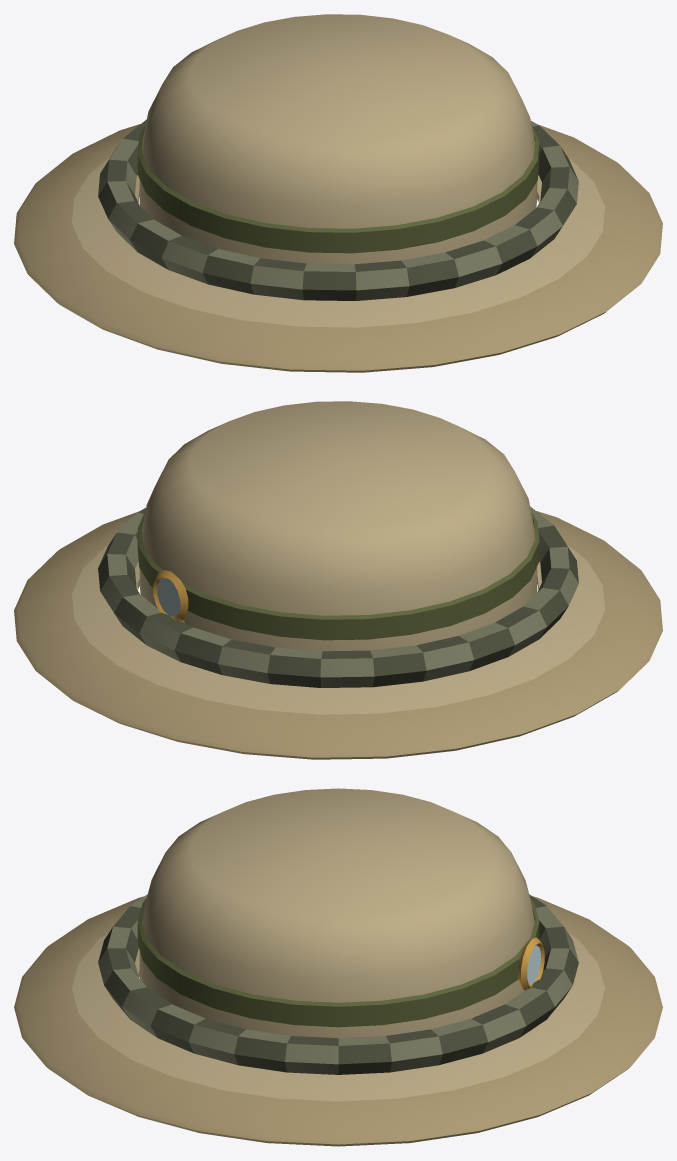
3 renders of one model, top to bottom at view 1: azimuth 30°, elevation 25°; view 2: azimuth 150°, elevation 25°; view 3: azimuth 270°, elevation 25°, orthographic.
Parts seen in each view (by area): view 1: h_explorer; view 2: h_explorer, h_explorer_metal; view 3: h_explorer, h_explorer_metal.
Boxes of the visible parts, x1=… form: h_explorer: x1=14, y1=14, x2=662, y2=372; h_explorer: x1=14, y1=401, x2=662, y2=759; h_explorer_metal: x1=153, y1=570, x2=188, y2=622; h_explorer: x1=14, y1=788, x2=662, y2=1146; h_explorer_metal: x1=518, y1=937, x2=544, y2=990.
Bounding box in the file's own units: 1.27 × 0.364 × 1.27.
